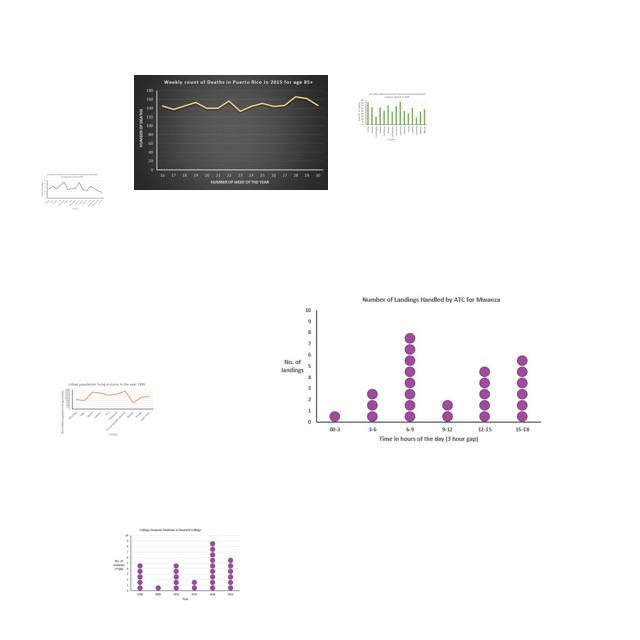Graph: (272, 290, 547, 449), (134, 75, 328, 190), (110, 526, 242, 604), (59, 381, 155, 437), (356, 91, 428, 142), (40, 172, 105, 211)
